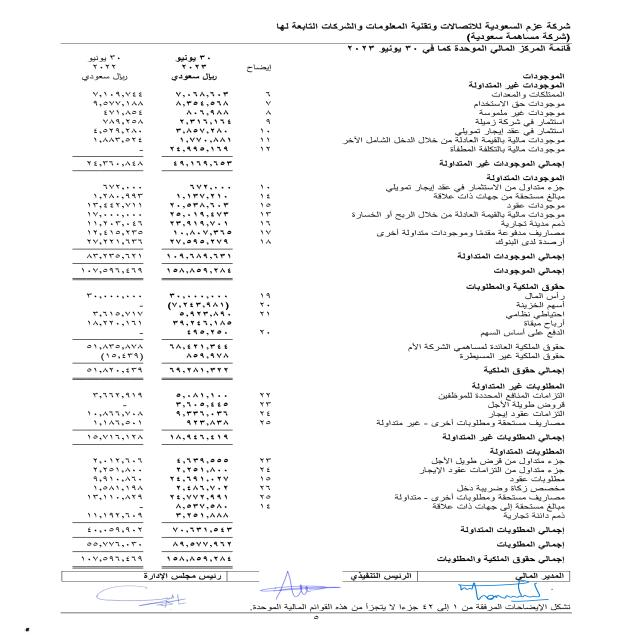financial_sheets: (487, 45, 578, 61)
table: (20, 46, 286, 586)
